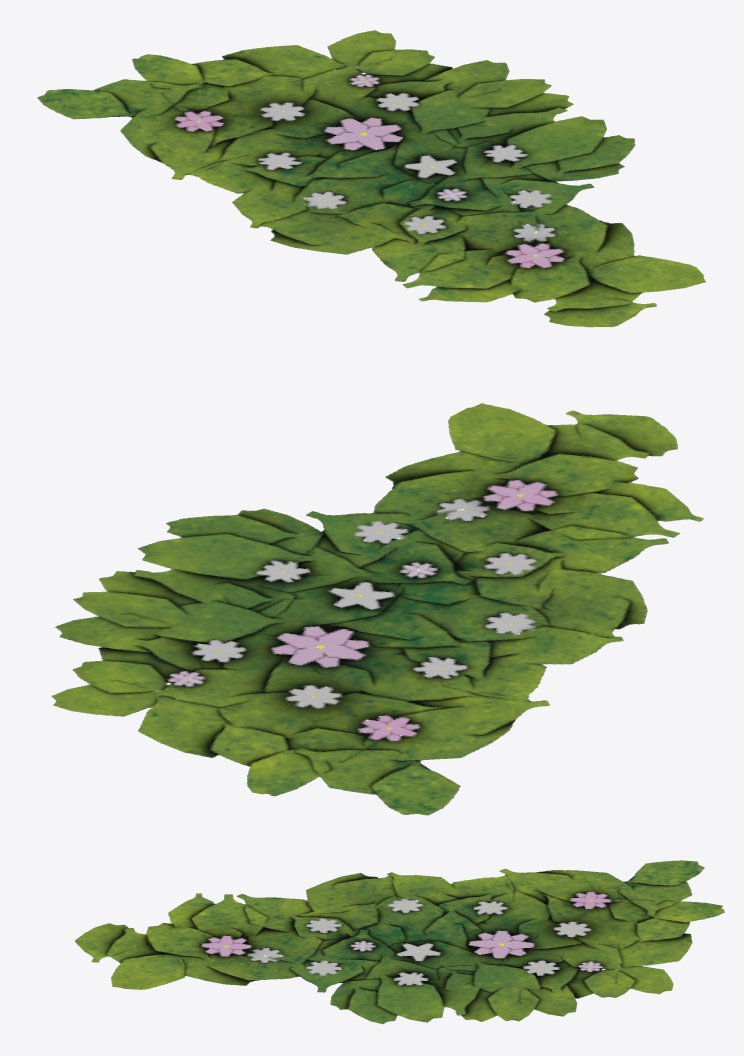
File: Flowers_Bush_01.fbx
3 renders of one model, top to bottom at view 1: azimuth 30°, elevation 25°; view 2: azimuth 150°, elevation 25°; view 3: azimuth 270°, elevation 25°, orthographic. The views are drawn at different scales.
Visible parts, largest first — view 1: Flowers_Bush_01; view 2: Flowers_Bush_01; view 3: Flowers_Bush_01.
Part boxes in pixels (left/top/right/bottom): Flowers_Bush_01: left=37, top=30, right=705, bottom=327; Flowers_Bush_01: left=51, top=403, right=703, bottom=815; Flowers_Bush_01: left=75, top=860, right=724, bottom=1024.
Bounding box in the file's own units: 1.92 × 0 × 3.1.
